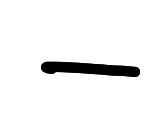minus: (40, 57, 141, 82)
